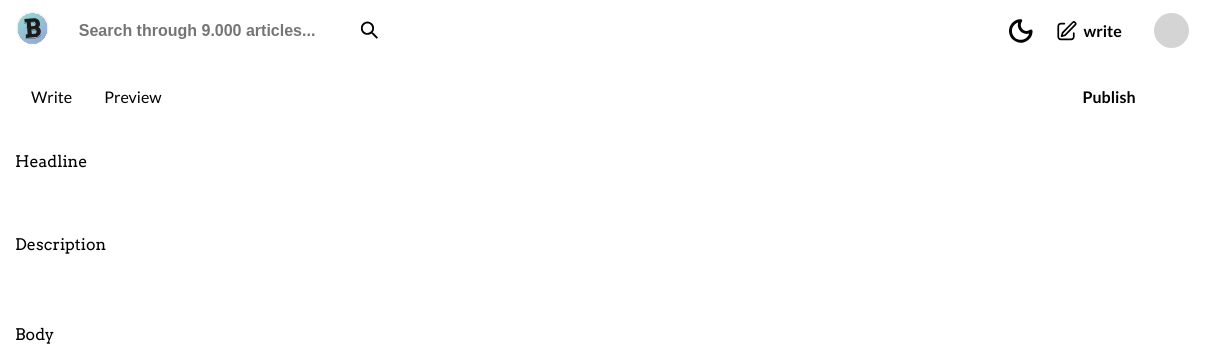
Test: Test Page : Write! › if inputs are empty when click on the publish show error
The width and height of the screenshot is (1206, 361).
Click the button with test id "publishButton" at coordinates (1109, 96), box [1029, 81, 1189, 112]
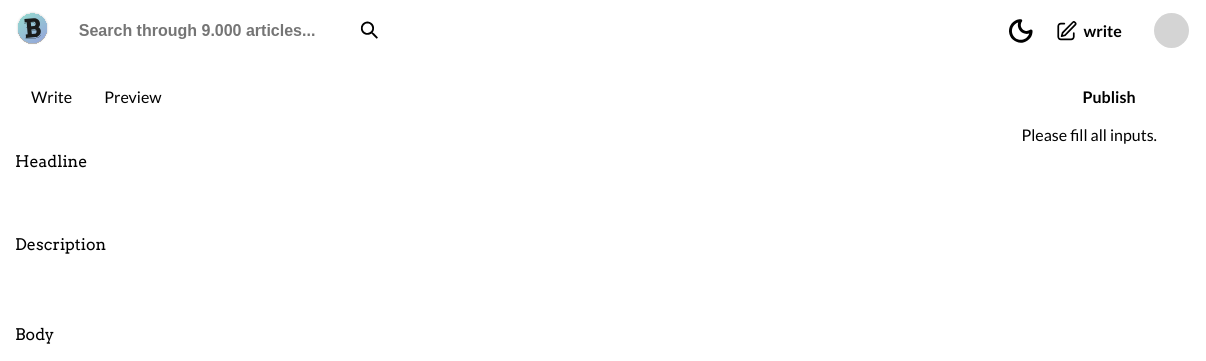
Expected: the element with test id "errorMessage" is shown, [1021, 125, 1157, 144]
